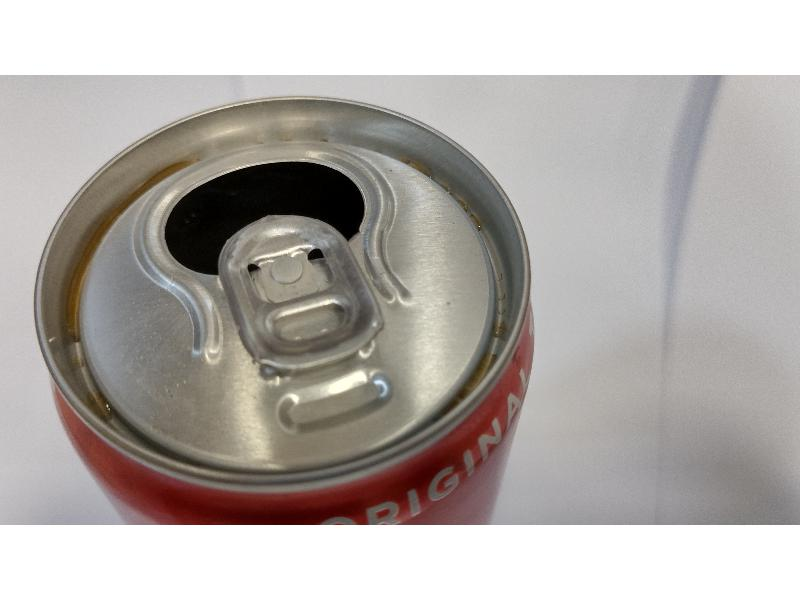can: (30, 93, 552, 525)
